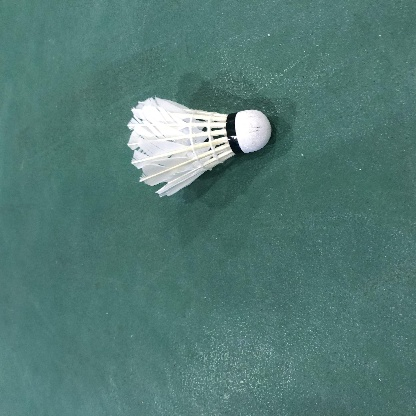ball_single: (127, 97, 271, 198)
